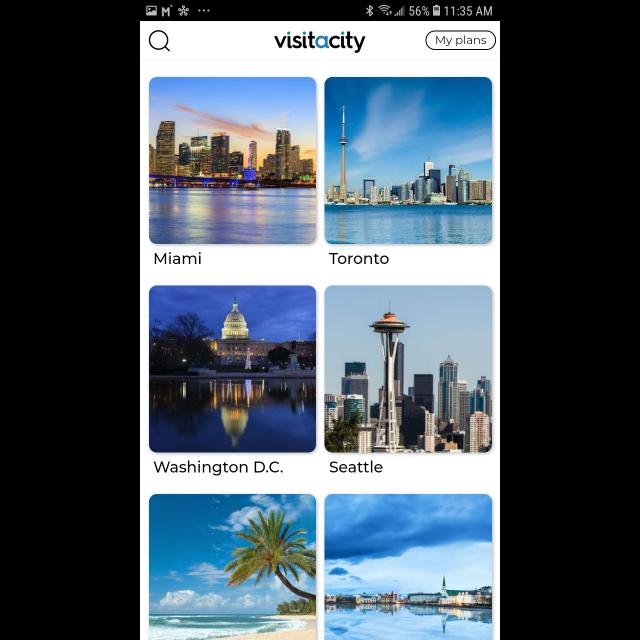icon: (149, 30, 171, 52)
image: (324, 78, 492, 245), (324, 286, 492, 452), (150, 78, 316, 245), (150, 286, 316, 452), (324, 494, 492, 640), (150, 494, 316, 640), (274, 31, 366, 53)
text: (154, 460, 284, 476), (329, 253, 389, 264), (330, 461, 382, 473), (154, 252, 202, 264)
textbutton: (426, 31, 496, 51)
uppertaskbar: (140, 1, 500, 22)
